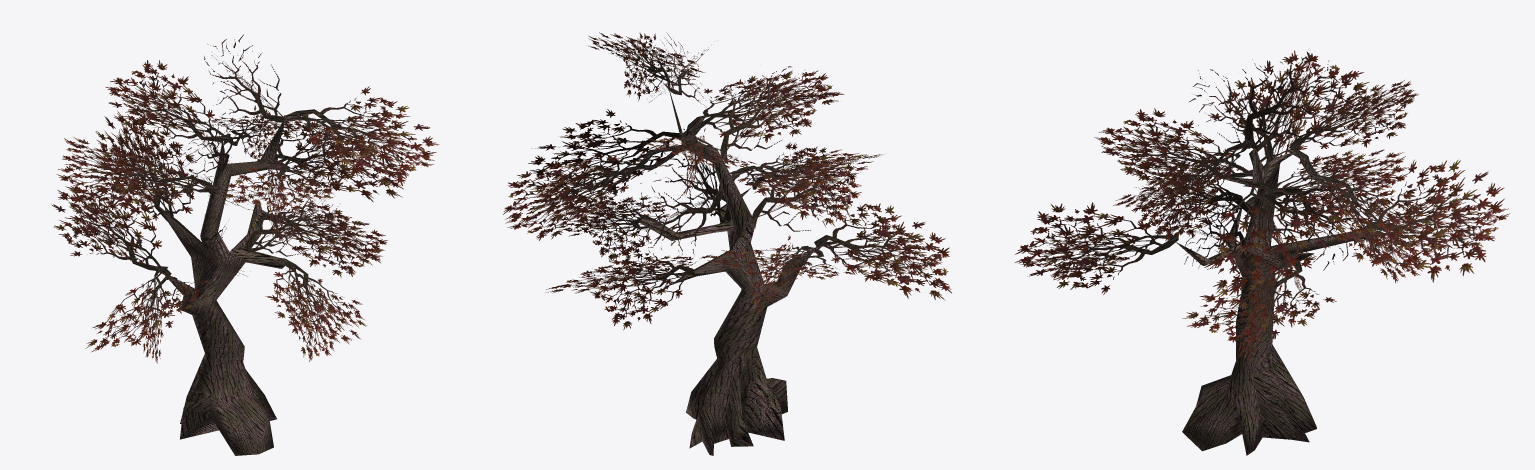
Rendered from decd_dath_blacktree_l1.fbx.
3 views of the same model, side by side, from view 1: azimuth 30°, elevation 25°; view 2: azimuth 150°, elevation 25°; view 3: azimuth 270°, elevation 25° (orthographic). The views are drawn at different scales.
Visible parts, largest first — view 1: mesh_node; view 2: mesh_node; view 3: mesh_node.
Boxes of the visible parts, x1=… form: mesh_node: x1=51, y1=34, x2=439, y2=455; mesh_node: x1=503, y1=32, x2=951, y2=455; mesh_node: x1=1014, y1=50, x2=1510, y2=455.
Bounding box in the file's own units: 16.04 × 15.96 × 17.62.
